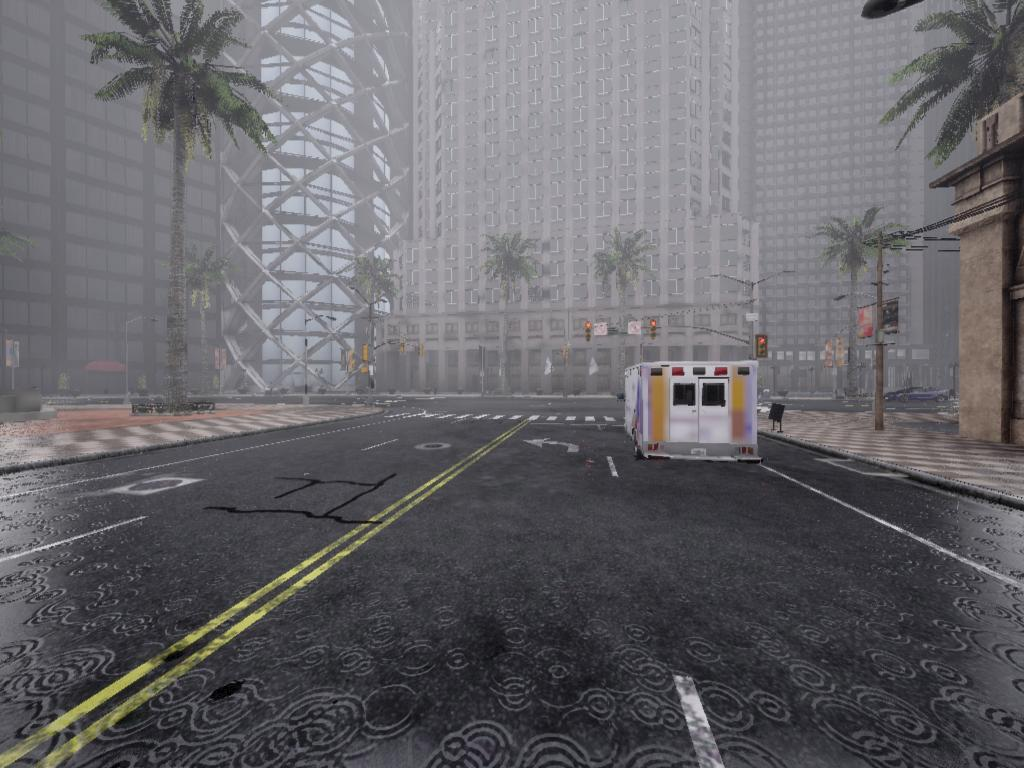traffic_light: (754, 334, 768, 357), (758, 338, 770, 359), (651, 320, 660, 337), (587, 322, 593, 344), (362, 344, 368, 363), (400, 339, 405, 356), (563, 345, 569, 359), (419, 345, 425, 357)
